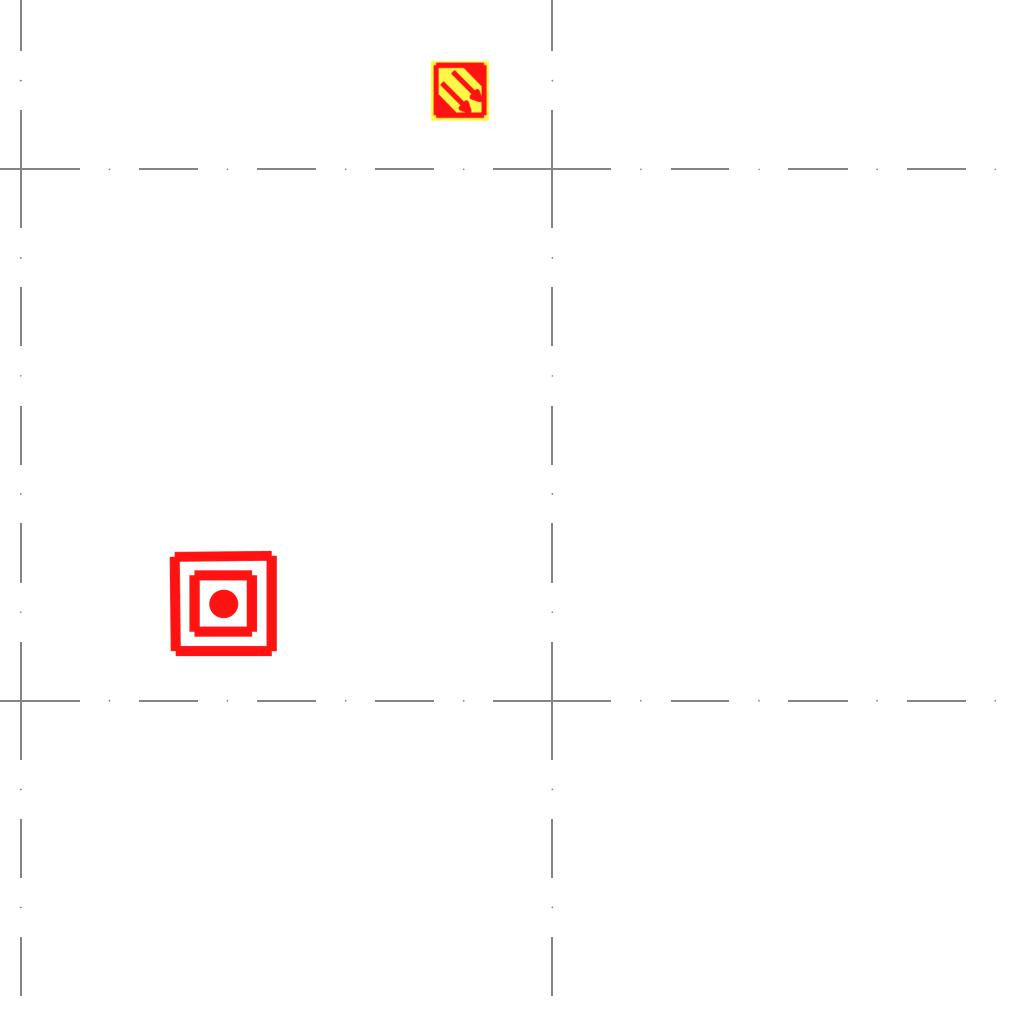ASR_Ansaugrauchmelder: (429, 60, 491, 122)
NAM-Nichtautomatischer_Melder: (167, 547, 280, 660)
